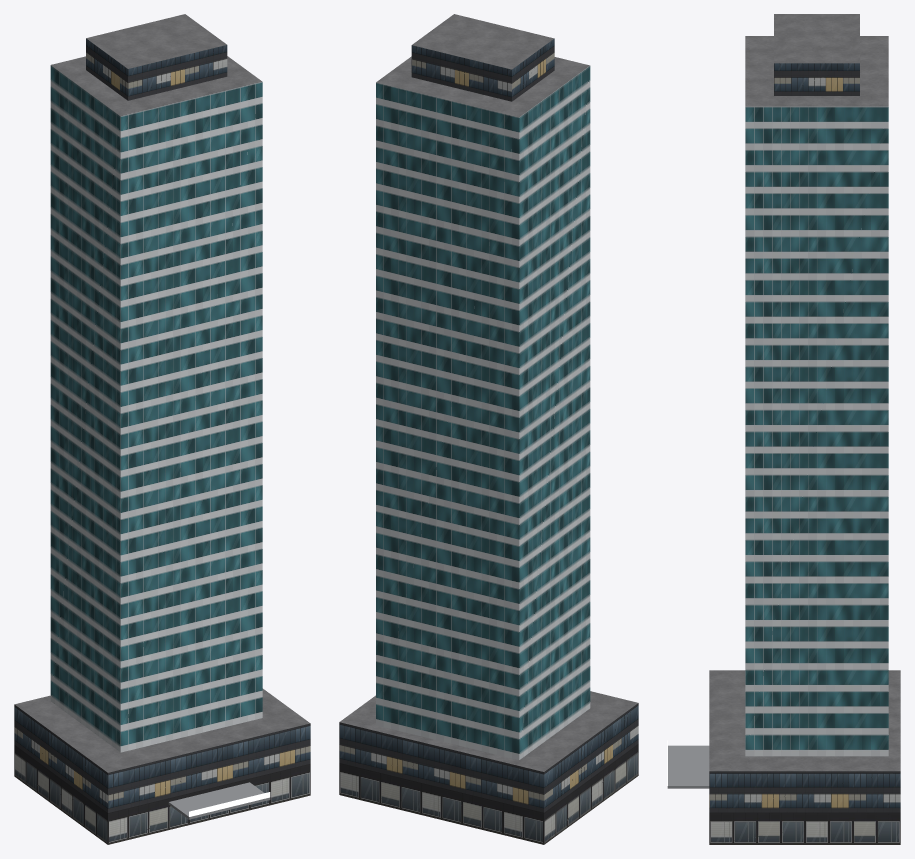
The model's file is 069_hotel_glass.glb.
The picture shows the model from 3 angles, left to right: view 1: azimuth 30°, elevation 25°; view 2: azimuth 150°, elevation 25°; view 3: azimuth 270°, elevation 25°; orthographic projection. The views are drawn at different scales.
Visible parts, largest first — view 1: 069_hotel_glass; view 2: 069_hotel_glass; view 3: 069_hotel_glass.
Part boxes in pixels (<box>): 069_hotel_glass: <box>14,14,310,844</box>; 069_hotel_glass: <box>339,14,638,844</box>; 069_hotel_glass: <box>667,14,900,844</box>.
Size of the model in its own units: 40 by 140 by 39.05.
Materials: 6 (4 with a texture image).
